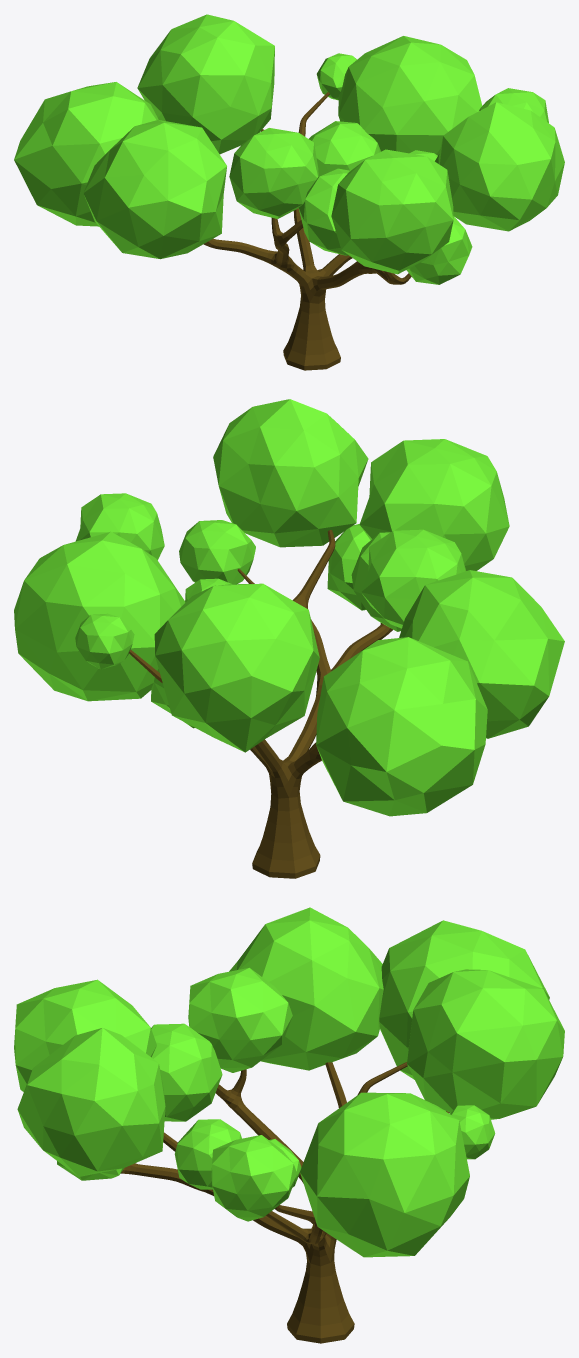
File: tree_2_fini.glb
The picture shows the model from 3 angles, top to bottom: view 1: azimuth 30°, elevation 25°; view 2: azimuth 150°, elevation 25°; view 3: azimuth 270°, elevation 25°; orthographic projection. The views are drawn at different scales.
Parts seen in each view (by area): view 1: Plane; view 2: Plane; view 3: Plane.
Part boxes in pixels (<box>): Plane: <box>14,14,564,370</box>; Plane: <box>14,399,564,878</box>; Plane: <box>14,907,564,1343</box>.
Bounding box in the file's own units: 18.34 × 12.39 × 17.41.
1 material, 1 textured.
